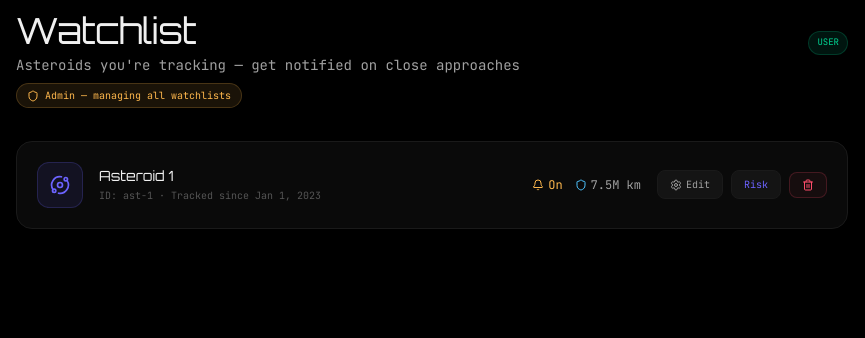
it: WatchlistShell › opens edit panel
Click the button titled "Edit alert settings" at point(690, 184), box [657,170,723,199]
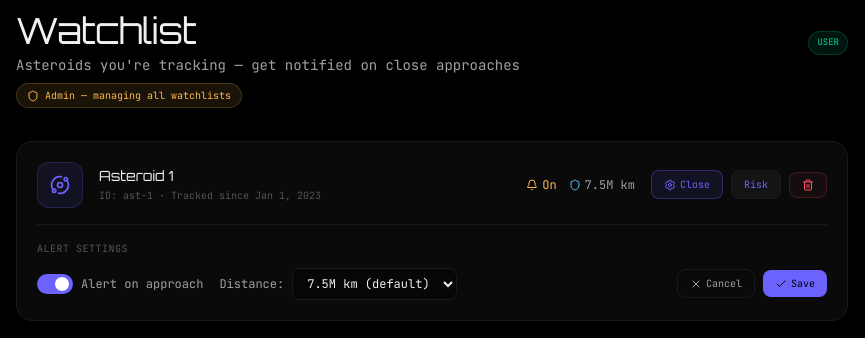
Expected: the text "Alert Settings" is shown, [37,242,128,254]
